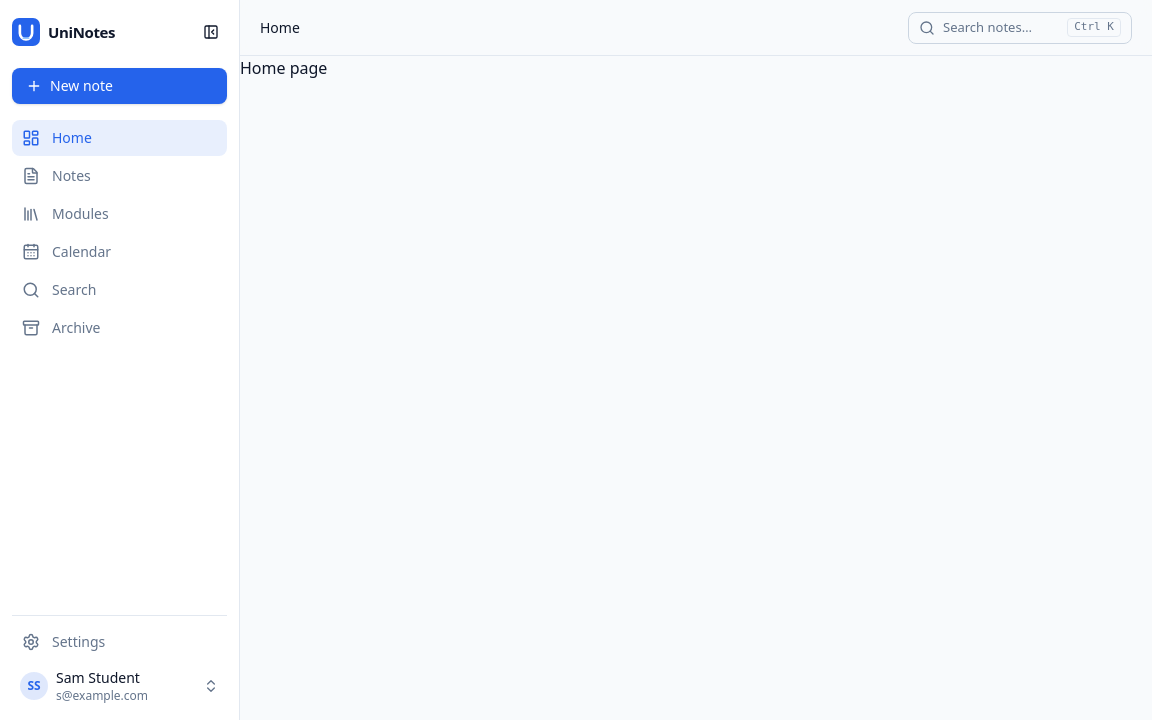
Test: AppShell navigation › navigates with the sidebar and highlights the active route
Expected: the heading "Home page" is shown, x1=240 y1=57 x2=327 y2=79
Click the link "Modules" at (65,214), box x1=22 y1=204 x2=109 y2=223
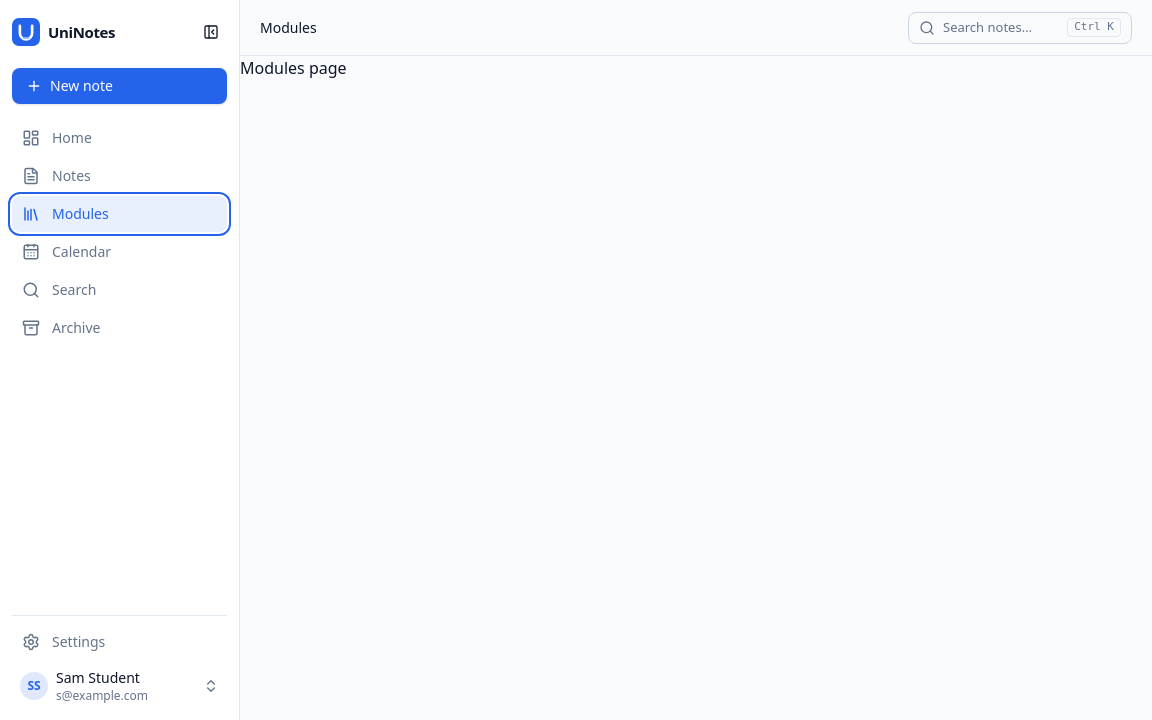
Now the heading "Modules page" is shown, box x1=240 y1=57 x2=347 y2=79
